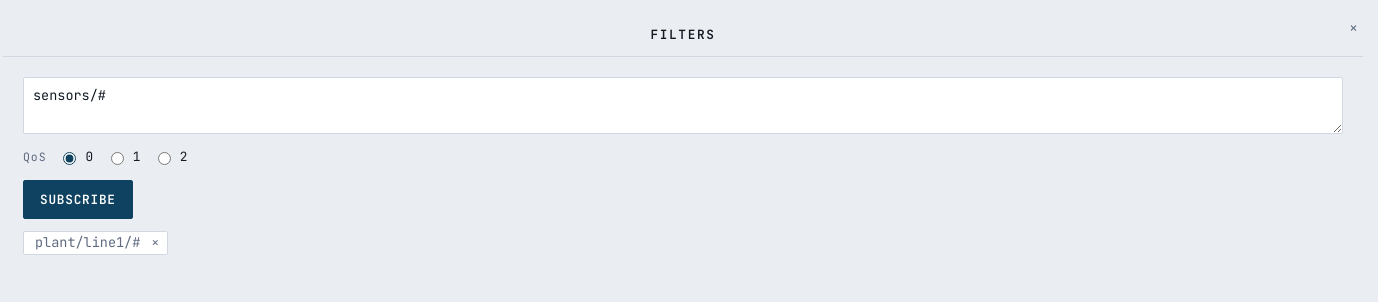
picking a topic into the box › writes a filter clicked on its own chip
Click the button "plant/line1/#" at point(88, 243), box 33,236 -> 142,249
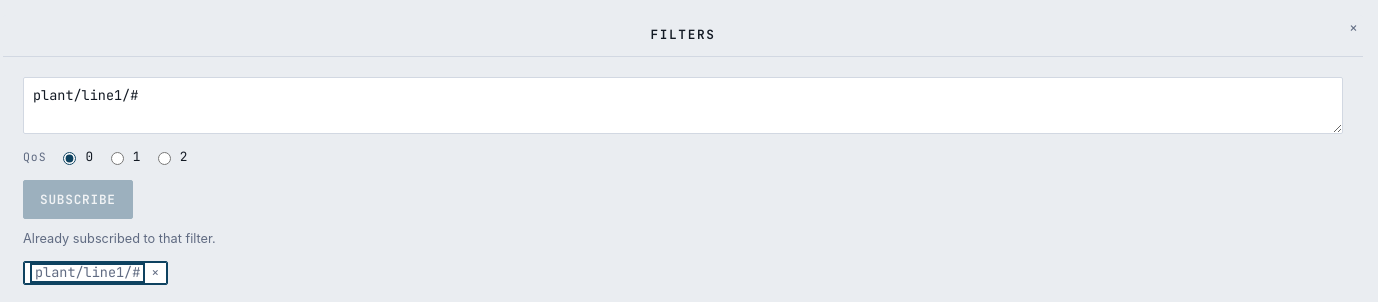
expect the text box named "Topic filter" holds "plant/line1/#": met, box 23,77 -> 1343,134
